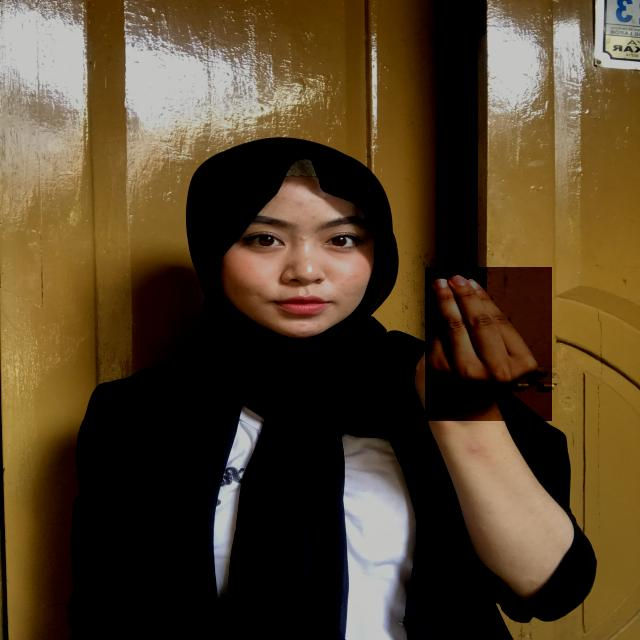kapan: (425, 267, 552, 421)
